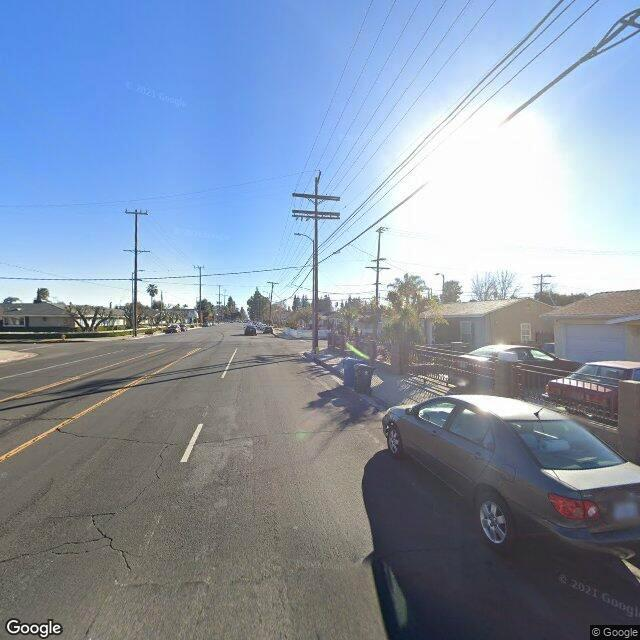crack: (96, 434, 172, 557), (7, 424, 362, 446), (0, 539, 146, 574)
